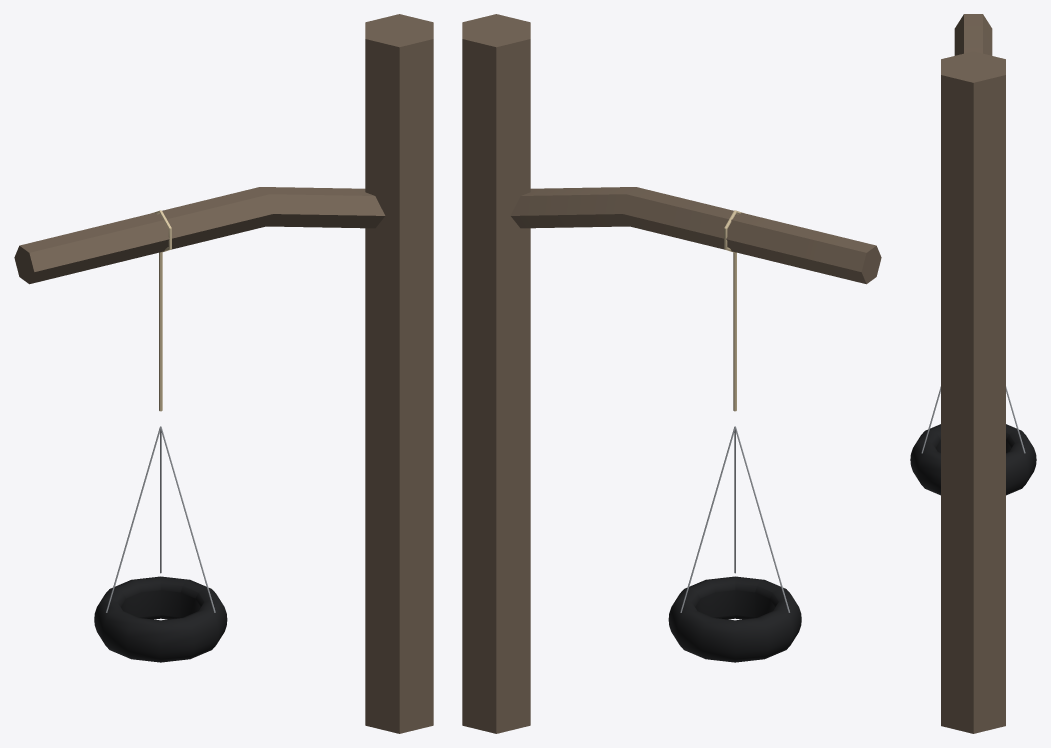
Rendered from swing_tire.far.glb.
3 views of the same model, side by side, from view 1: azimuth 30°, elevation 25°; view 2: azimuth 150°, elevation 25°; view 3: azimuth 270°, elevation 25° (orthographic). The views are drawn at different scales.
Parts seen in each view (by area): view 1: swing_tire, spin_swing_tire; view 2: swing_tire, spin_swing_tire; view 3: swing_tire, spin_swing_tire.
Part boxes in pixels (bbox=[...]): swing_tire: bbox=[14, 14, 433, 733]; spin_swing_tire: bbox=[94, 426, 227, 662]; swing_tire: bbox=[462, 14, 881, 733]; spin_swing_tire: bbox=[668, 426, 801, 662]; swing_tire: bbox=[941, 14, 1005, 733]; spin_swing_tire: bbox=[910, 386, 1036, 495].
Bounding box in the file's own units: 2.4 × 3.85 × 0.676.
